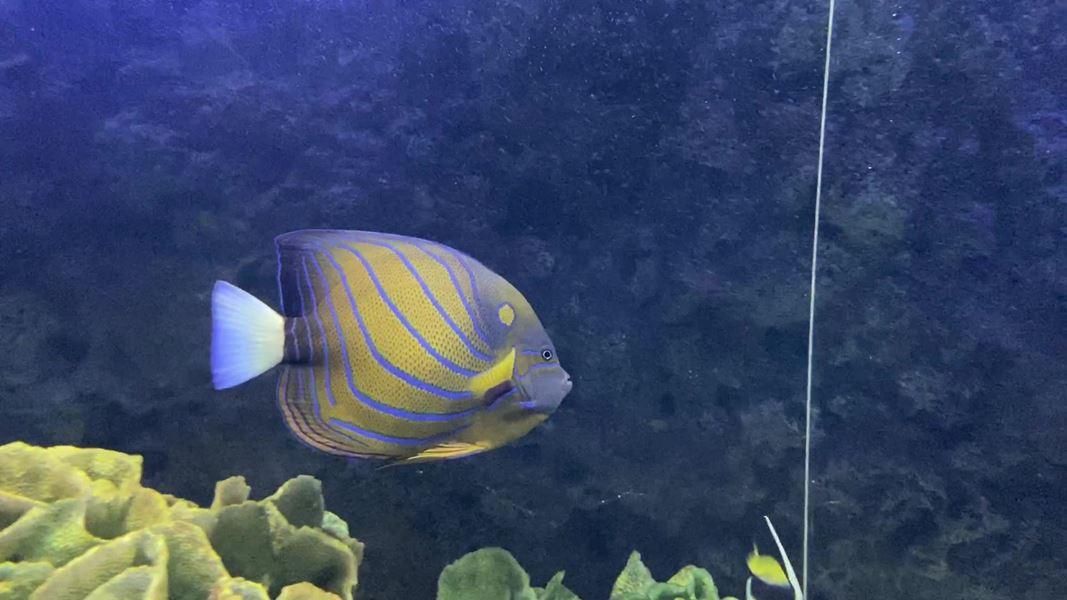Blue ring angelfish: (174, 212, 577, 482)
